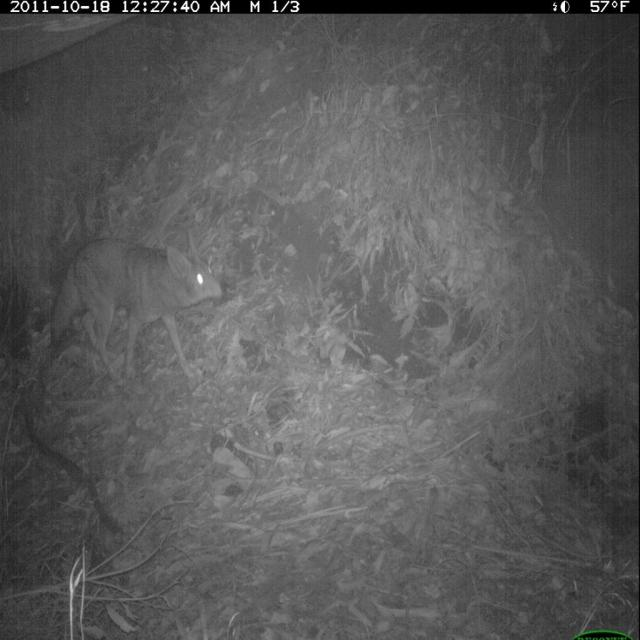coyote: (41, 222, 232, 397)
